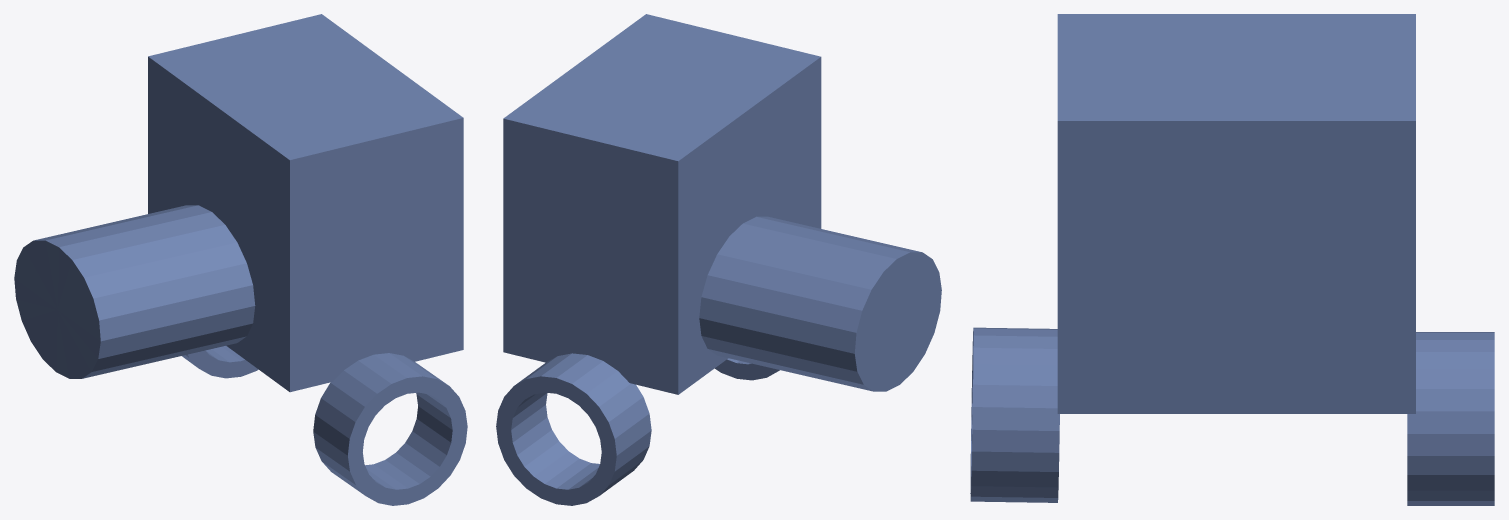
Rendered from train model.glb.
The picture shows the model from 3 angles, left to right: view 1: azimuth 30°, elevation 25°; view 2: azimuth 150°, elevation 25°; view 3: azimuth 270°, elevation 25°; orthographic projection. The views are drawn at different scales.
Parts seen in each view (by area): view 1: Mesh_Mesh_head_geo.001_lambert2SG.001; view 2: Mesh_Mesh_head_geo.001_lambert2SG.001; view 3: Mesh_Mesh_head_geo.001_lambert2SG.001.
Boxes of the visible parts, box(x1,y1,x2,y2) form: Mesh_Mesh_head_geo.001_lambert2SG.001: box(14, 14, 467, 505); Mesh_Mesh_head_geo.001_lambert2SG.001: box(496, 14, 941, 505); Mesh_Mesh_head_geo.001_lambert2SG.001: box(970, 14, 1494, 505).
Bounding box in the file's own units: 55 × 54.26 × 60.
